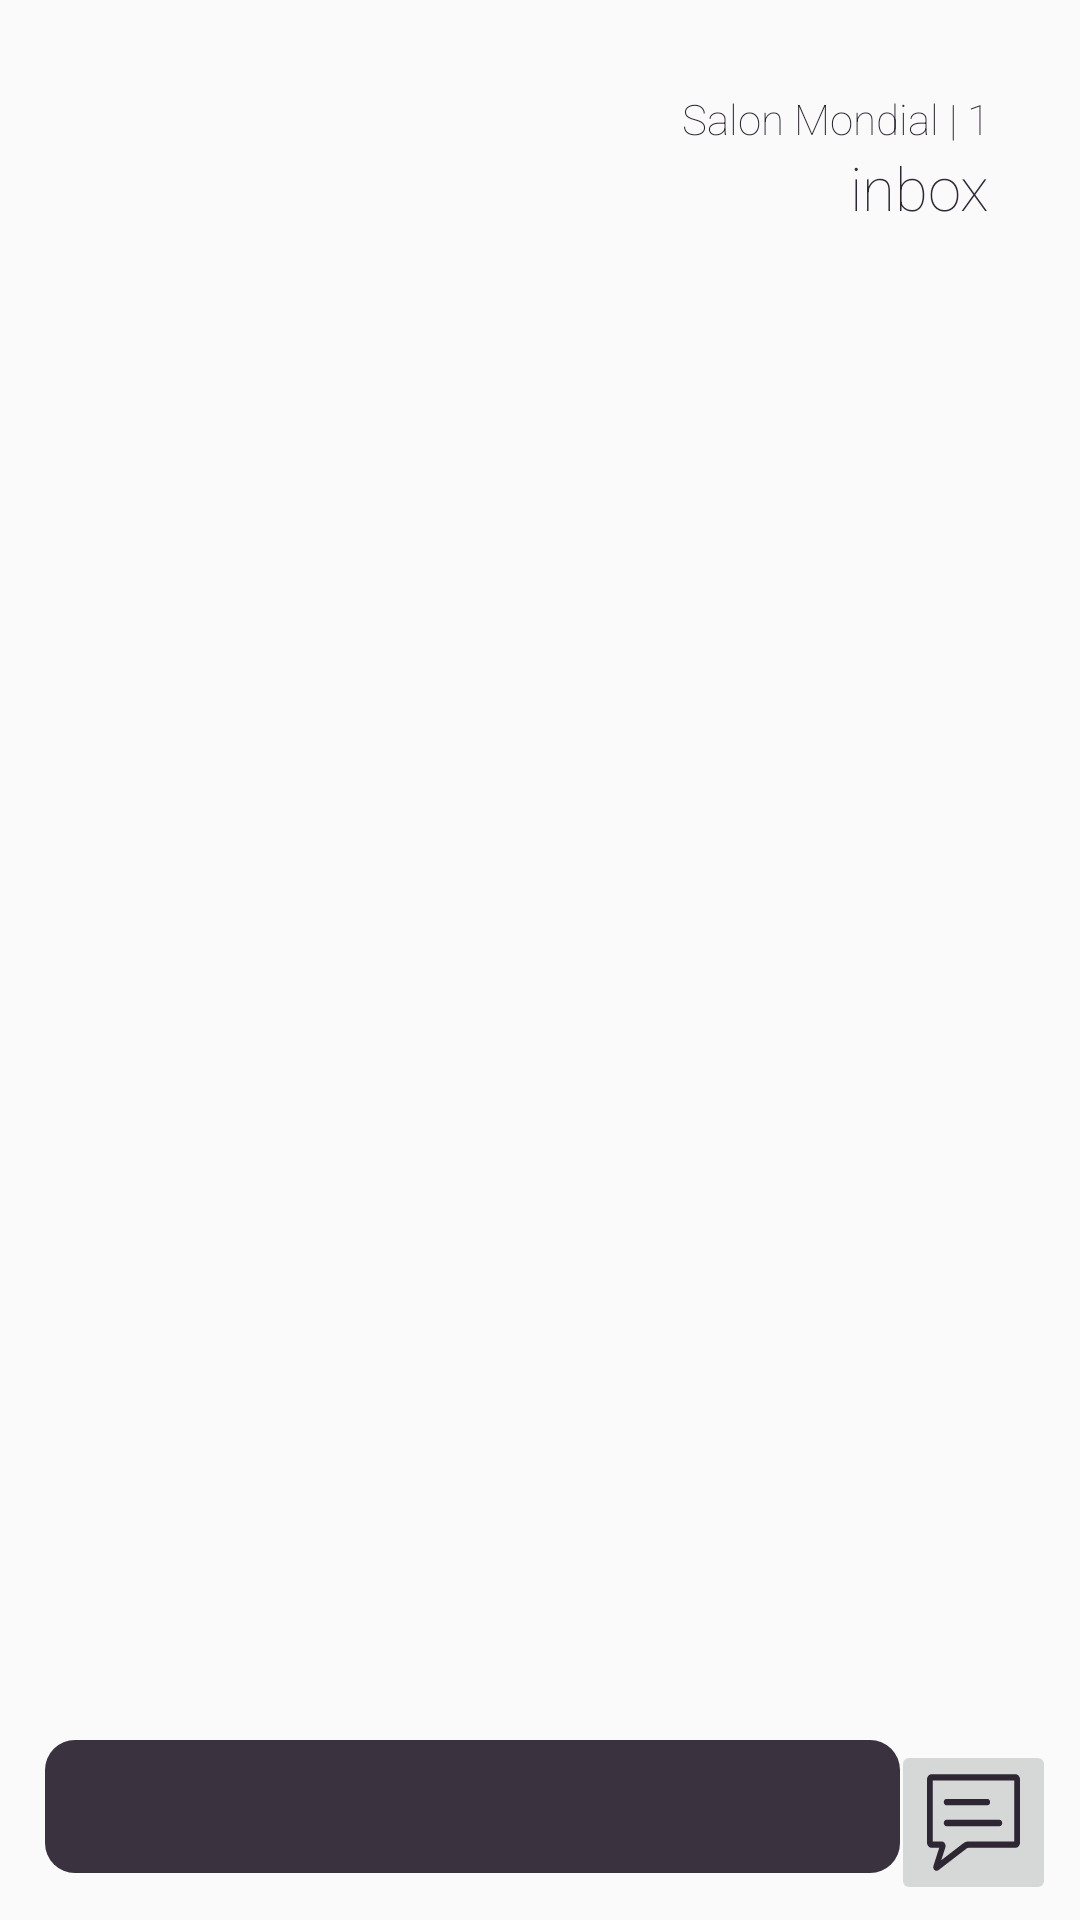

Where to tap for icons on this 1080×1920 app screen, as point (x, y):
chatbubble: point (973, 1822)
